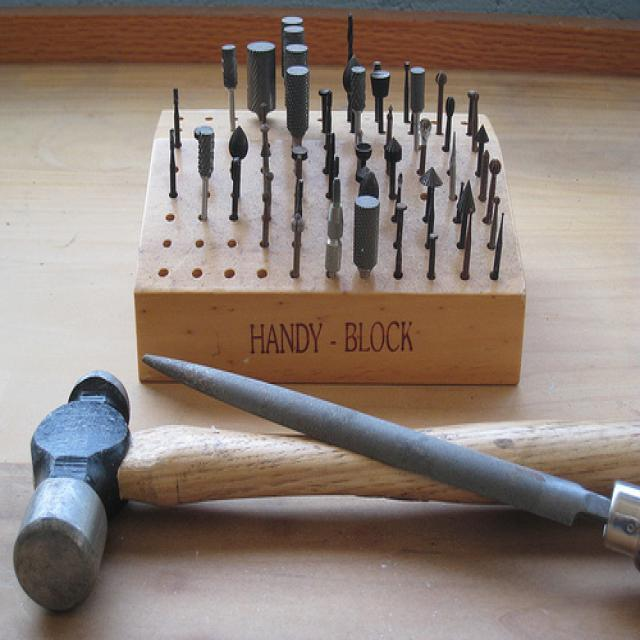hammer: (7, 361, 640, 619)
